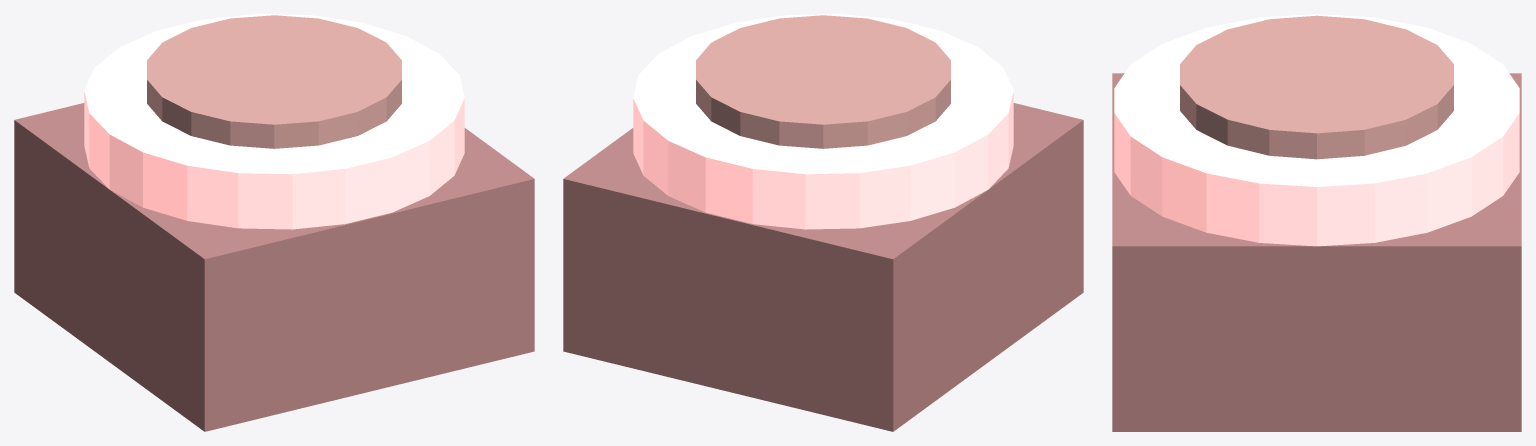
Rendered from Bounce_TopHalf.glb.
3 renders of one model, left to right at view 1: azimuth 30°, elevation 25°; view 2: azimuth 150°, elevation 25°; view 3: azimuth 270°, elevation 25°, orthographic. The views are drawn at different scales.
Parts seen in each view (by area): view 1: Bounce_TopHalf_body, bounce_base.002, bounce_fill_ring.002; view 2: Bounce_TopHalf_body, bounce_base.002, bounce_fill_ring.002; view 3: Bounce_TopHalf_body, bounce_base.002, bounce_fill_ring.002.
Part boxes in pixels (x1=…): Bounce_TopHalf_body: x1=14, y1=103, x2=534, y2=431; bounce_base.002: x1=84, y1=14, x2=464, y2=229; bounce_fill_ring.002: x1=147, y1=15, x2=401, y2=148; Bounce_TopHalf_body: x1=563, y1=103, x2=1083, y2=431; bounce_base.002: x1=633, y1=14, x2=1013, y2=229; bounce_fill_ring.002: x1=696, y1=15, x2=950, y2=148; Bounce_TopHalf_body: x1=1112, y1=73, x2=1521, y2=431; bounce_base.002: x1=1114, y1=14, x2=1519, y2=246; bounce_fill_ring.002: x1=1180, y1=15, x2=1453, y2=159.
Size of the model in its own units: 1 by 0.73 by 1.
